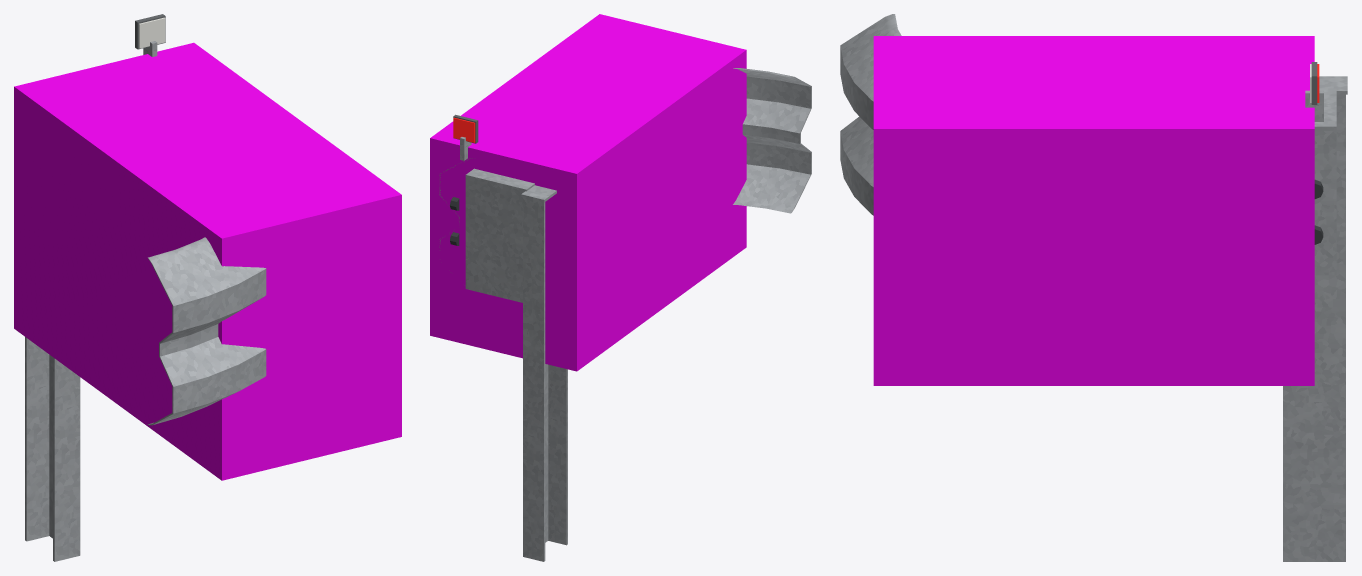
The model's file is EN_Barrier_WBeam_EndCap.fbx.
The picture shows the model from 3 angles, left to right: view 1: azimuth 30°, elevation 25°; view 2: azimuth 150°, elevation 25°; view 3: azimuth 270°, elevation 25°; orthographic projection. The views are drawn at different scales.
Parts seen in each view (by area): view 1: COL_Barrier, EN_Barrier_WBeam_EndCap_Mesh; view 2: COL_Barrier, EN_Barrier_WBeam_EndCap_Mesh; view 3: COL_Barrier, EN_Barrier_WBeam_EndCap_Mesh.
Part boxes in pixels (left/top/right/bottom): COL_Barrier: left=14, top=42, right=401, bottom=480; EN_Barrier_WBeam_EndCap_Mesh: left=25, top=14, right=266, bottom=561; COL_Barrier: left=430, top=14, right=746, bottom=371; EN_Barrier_WBeam_EndCap_Mesh: left=439, top=68, right=811, bottom=561; COL_Barrier: left=873, top=36, right=1314, bottom=385; EN_Barrier_WBeam_EndCap_Mesh: left=840, top=14, right=1347, bottom=561.
Size of the model in its own units: 0.475 by 0.94 by 0.8055.
